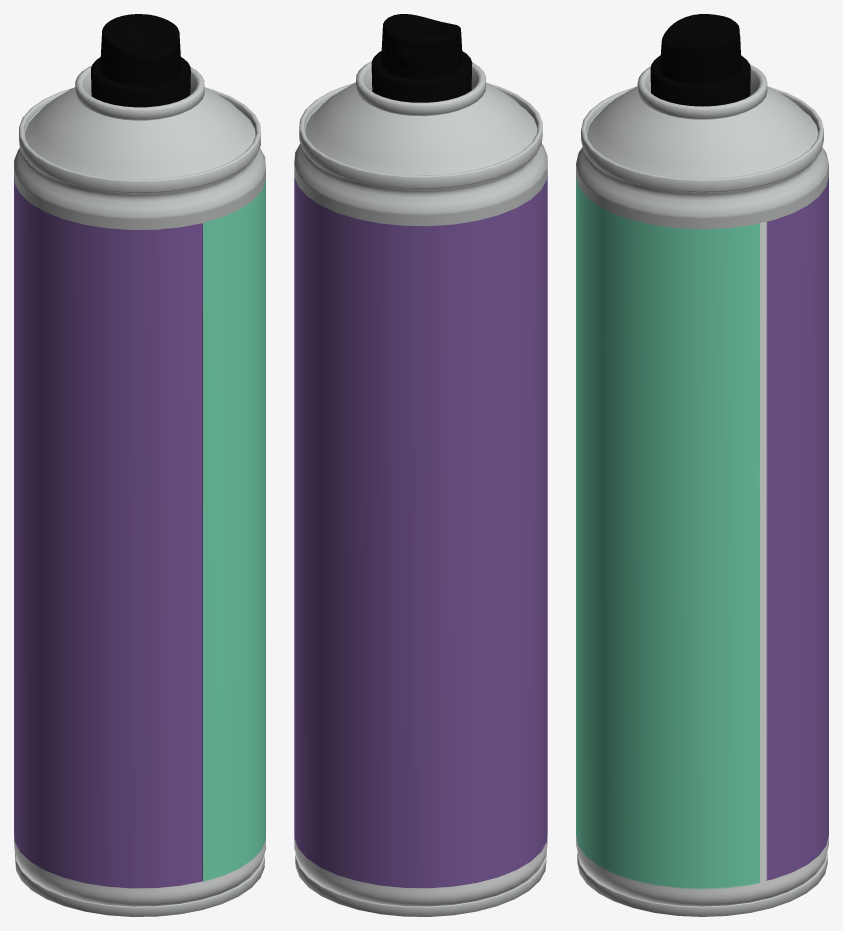
Rendered from Spray_Paint.fbx.
3 views of the same model, side by side, from view 1: azimuth 30°, elevation 25°; view 2: azimuth 150°, elevation 25°; view 3: azimuth 270°, elevation 25° (orthographic).
Parts seen in each view (by area): view 1: sprayCan; view 2: sprayCan; view 3: sprayCan.
Boxes of the visible parts, x1,y1,x2,y2 form: sprayCan: (14, 14, 265, 916); sprayCan: (294, 14, 547, 916); sprayCan: (576, 14, 828, 916).
Size of the model in its own units: 0.449 by 1.64 by 0.449.
Materials: 1 (1 with a texture image).
